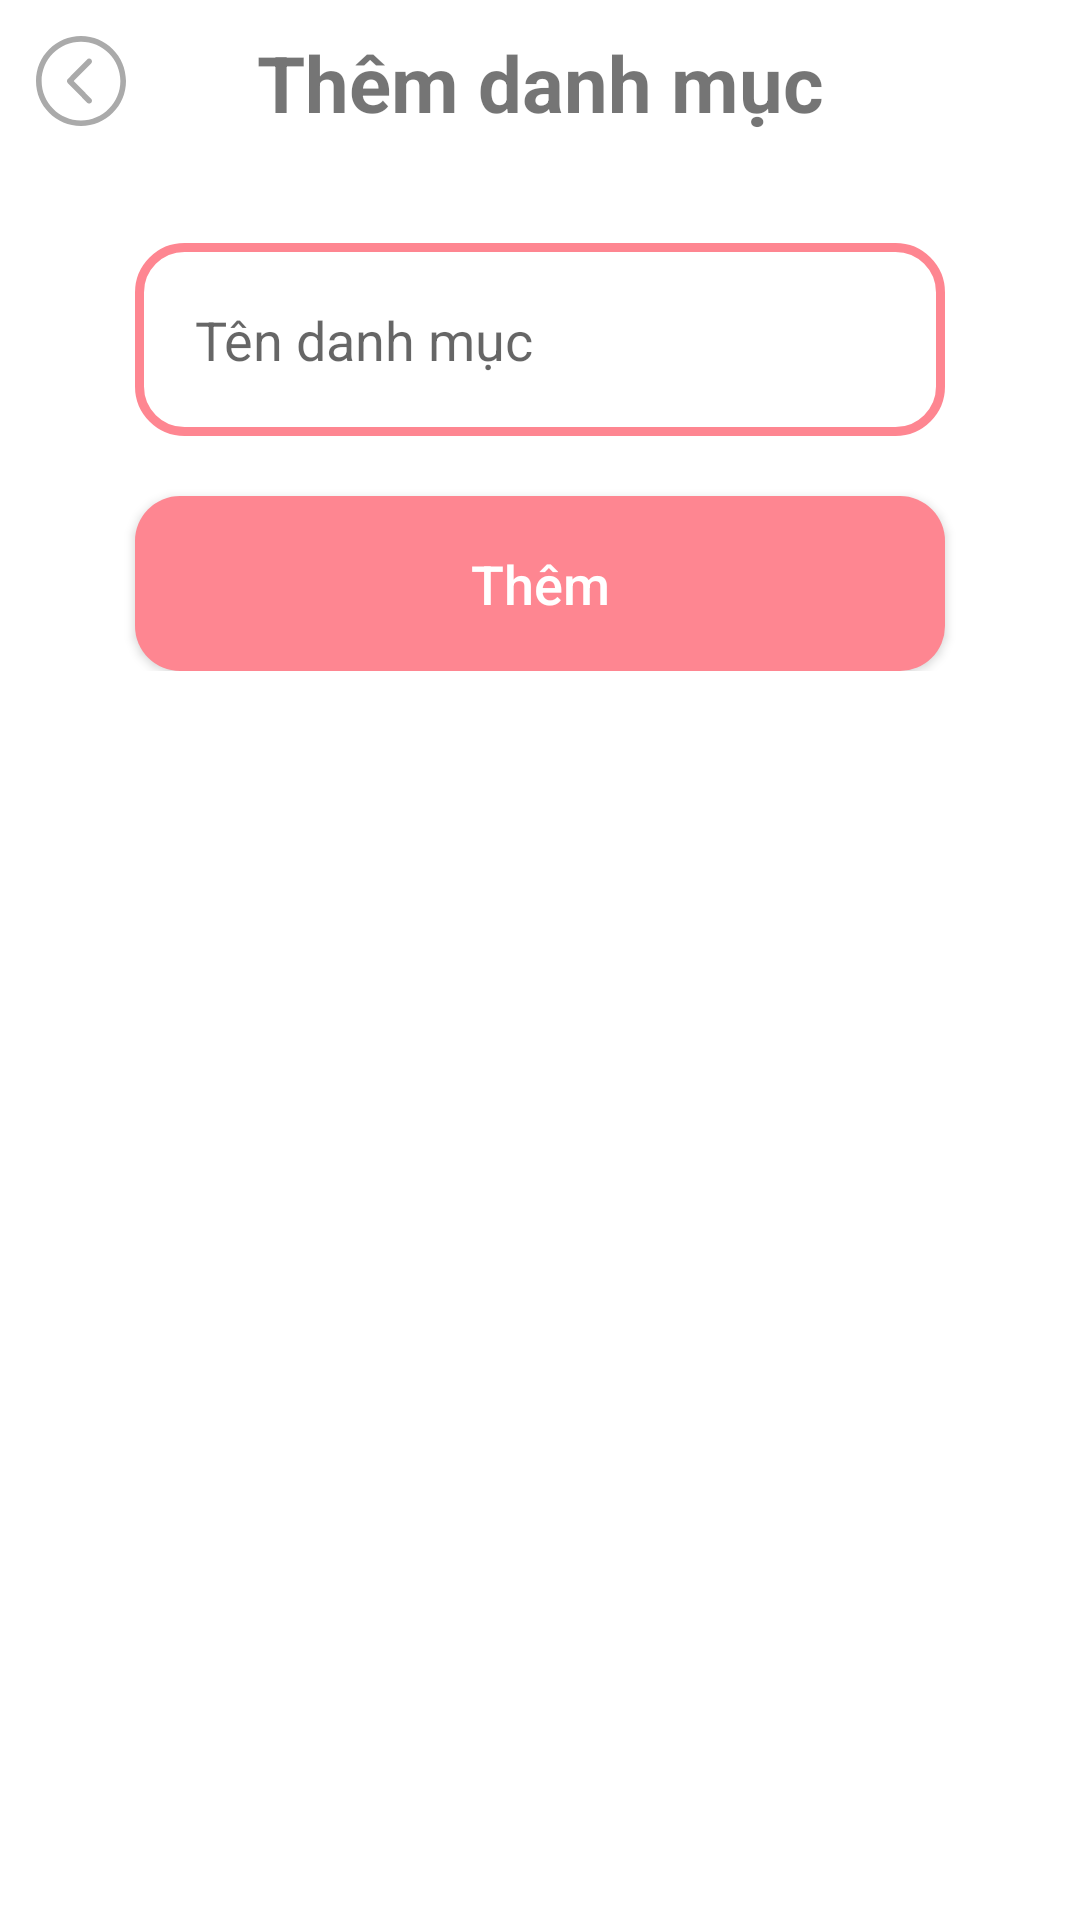

Icons on this 1080 x 1920 Android screen, each with its box as [left=x1, top=y1, right=x2, bottom=y2]:
back: [left=36, top=36, right=126, bottom=126]
